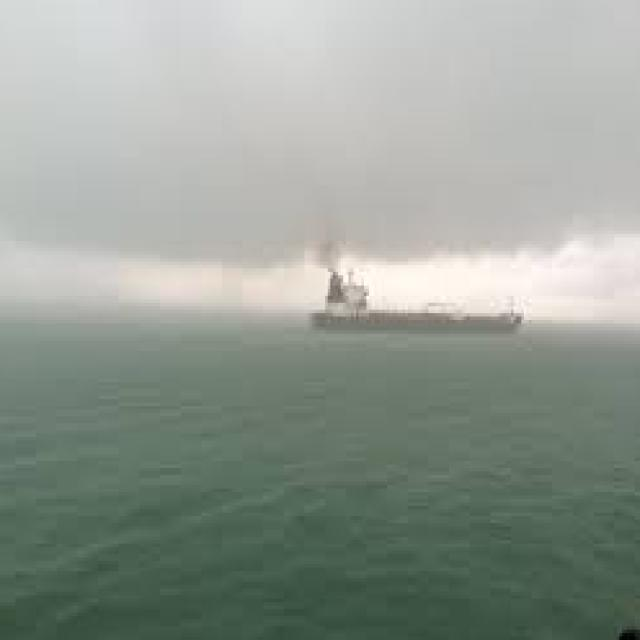cargoship: (306, 261, 534, 339)
